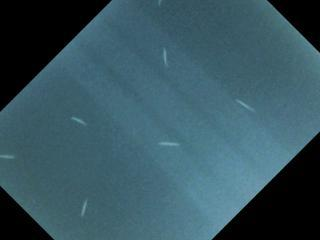scratch: (230, 91, 258, 118), (156, 40, 174, 73), (66, 108, 91, 131), (151, 137, 187, 150), (75, 197, 92, 221), (150, 0, 169, 10), (0, 151, 18, 161)
